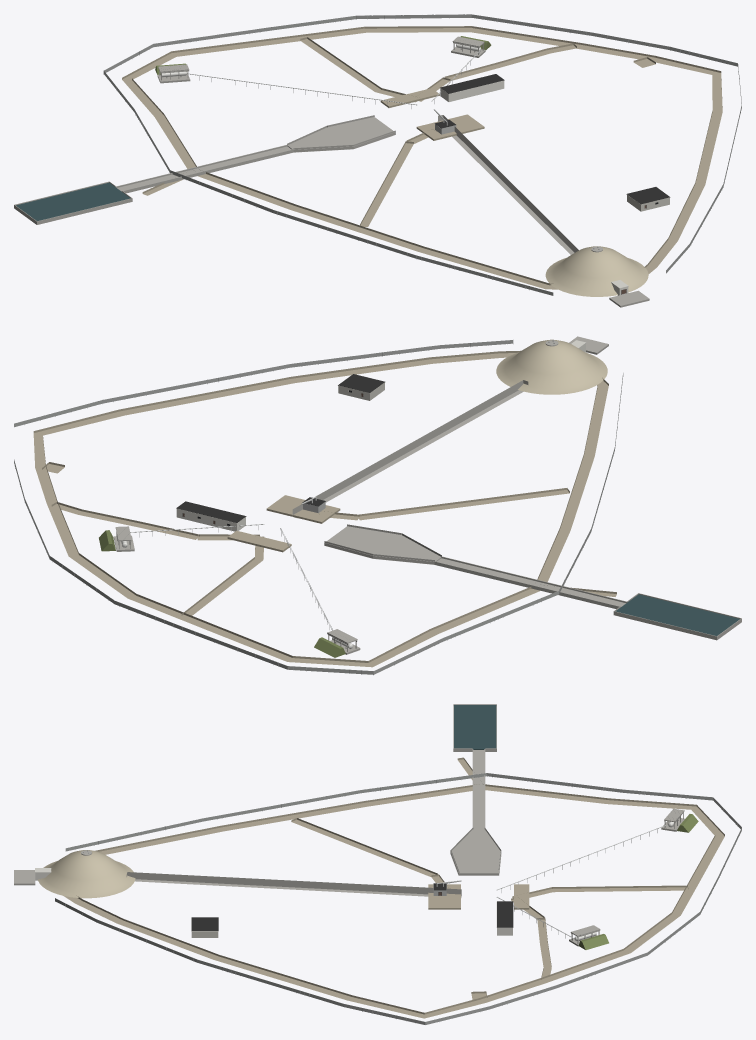
3 views of the same model, one above another, from view 1: azimuth 30°, elevation 25°; view 2: azimuth 150°, elevation 25°; view 3: azimuth 270°, elevation 25° (orthographic). The views are drawn at different scales.
Visible parts, largest first — view 1: Roads_Shell, Fence_Mesh, Blockhouse_Sand, Flume_Concrete, Flume_ConcreteKerbs, Flume_Water, Cableway_Concrete, SupportBuilding_WhiteAnnex, SupportBuilding_Tar; view 2: Roads_Shell, Fence_Mesh, Blockhouse_Sand, Flume_Concrete, Flume_ConcreteKerbs, Cableway_Concrete, Flume_Water, SupportBuilding_WhiteAnnex, SupportBuilding_Tar, Fence_Galv; view 3: Roads_Shell, Fence_Mesh, Blockhouse_Sand, Cableway_Concrete, Flume_Concrete, Flume_Water, Flume_ConcreteKerbs.
Part boxes in pixels (x1,y1,x2,y2): Roads_Shell: [122, 26, 722, 289]; Fence_Mesh: [104, 14, 741, 295]; Blockhouse_Sand: [545, 246, 648, 296]; Flume_Concrete: [117, 117, 395, 191]; Flume_ConcreteKerbs: [14, 115, 395, 224]; Flume_Water: [16, 182, 130, 221]; Cableway_Concrete: [438, 115, 578, 254]; SupportBuilding_WhiteAnnex: [440, 81, 504, 101]; SupportBuilding_Tar: [440, 74, 504, 93]; Roads_Shell: [33, 350, 616, 667]; Fence_Mesh: [14, 340, 623, 674]; Blockhouse_Sand: [496, 339, 607, 394]; Flume_Concrete: [324, 526, 625, 606]; Flume_ConcreteKerbs: [324, 524, 741, 640]; Cableway_Concrete: [292, 380, 528, 518]; Flume_Water: [615, 594, 739, 635]; SupportBuilding_WhiteAnnex: [176, 509, 245, 531]; SupportBuilding_Tar: [176, 501, 246, 522]; Fence_Galv: [14, 340, 623, 675]; Roads_Shell: [64, 757, 724, 1018]; Fence_Mesh: [55, 773, 741, 1024]; Blockhouse_Sand: [38, 850, 135, 898]; Cableway_Concrete: [126, 872, 461, 897]; Flume_Concrete: [451, 706, 500, 875]; Flume_Water: [454, 705, 496, 749]; Flume_ConcreteKerbs: [450, 704, 501, 875].
Size of the model in its own units: 431 by 17.07 by 416.
